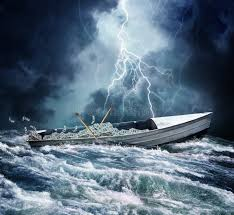boat: (27, 110, 214, 151)
